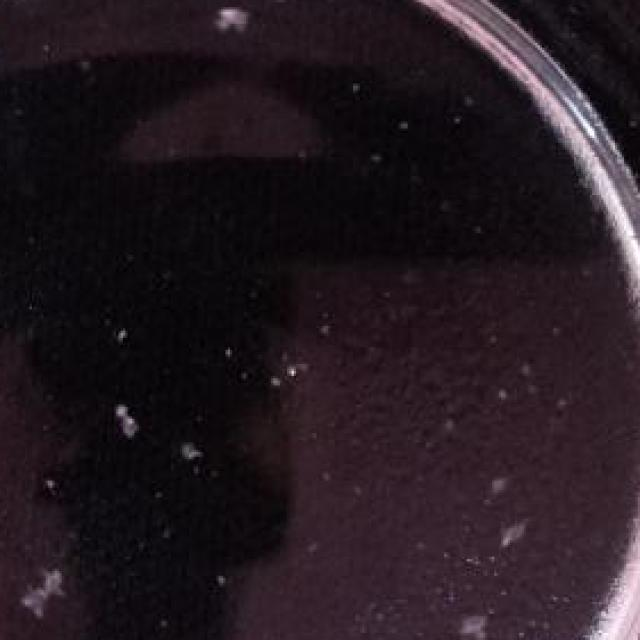Microplastic: (25, 562, 64, 628), (492, 516, 535, 566), (214, 0, 253, 55), (481, 452, 519, 502), (456, 604, 490, 640), (109, 398, 139, 428), (173, 438, 196, 466)
